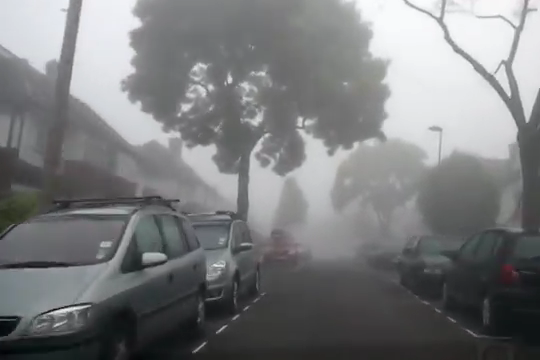car: (1, 191, 208, 360), (151, 211, 263, 316), (439, 224, 539, 335), (397, 233, 476, 296), (363, 236, 405, 271), (259, 236, 301, 270)
